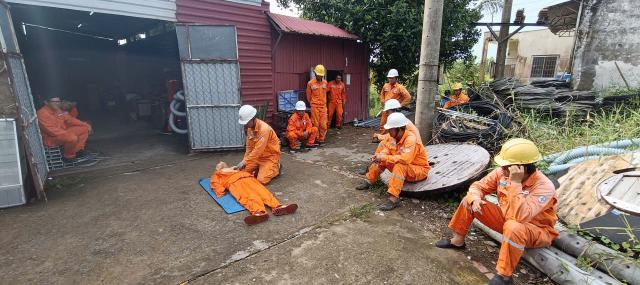gloves: (234, 158, 247, 173)
helmet: (228, 103, 262, 125), (383, 114, 413, 135), (383, 98, 402, 112), (312, 62, 328, 77), (386, 67, 401, 80), (293, 101, 307, 112), (161, 64, 173, 75), (453, 80, 462, 93)
shoes: (429, 230, 469, 252), (482, 265, 518, 285), (267, 200, 303, 215), (241, 213, 273, 225), (378, 194, 396, 214), (355, 178, 373, 191), (62, 155, 79, 164), (356, 166, 372, 175), (76, 149, 93, 156), (160, 127, 173, 136), (299, 144, 318, 150), (288, 143, 297, 155), (318, 138, 326, 148), (370, 139, 381, 144), (309, 141, 319, 146), (337, 125, 343, 130)
